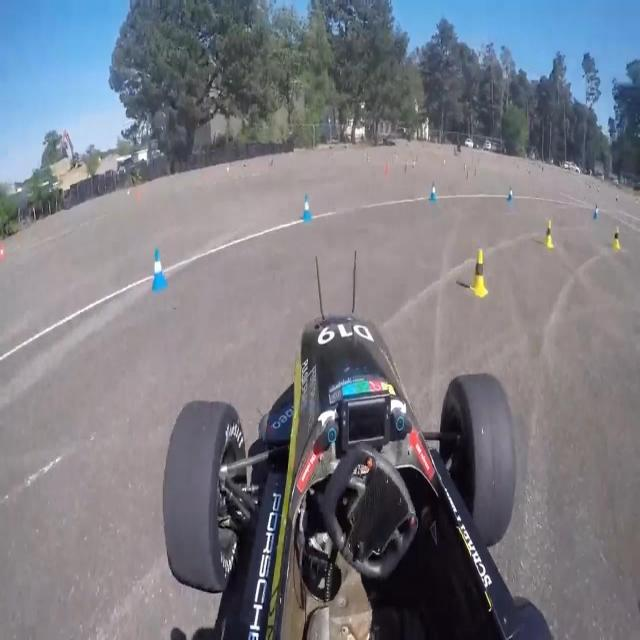blue_cone: (144, 244, 169, 292), (296, 188, 315, 226), (424, 182, 443, 202), (502, 183, 516, 203)
yellow_cone: (468, 241, 488, 298), (541, 218, 556, 249), (612, 224, 622, 252)
